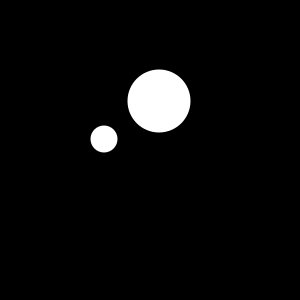rectangle: (128, 70, 190, 132), (91, 126, 118, 152)
